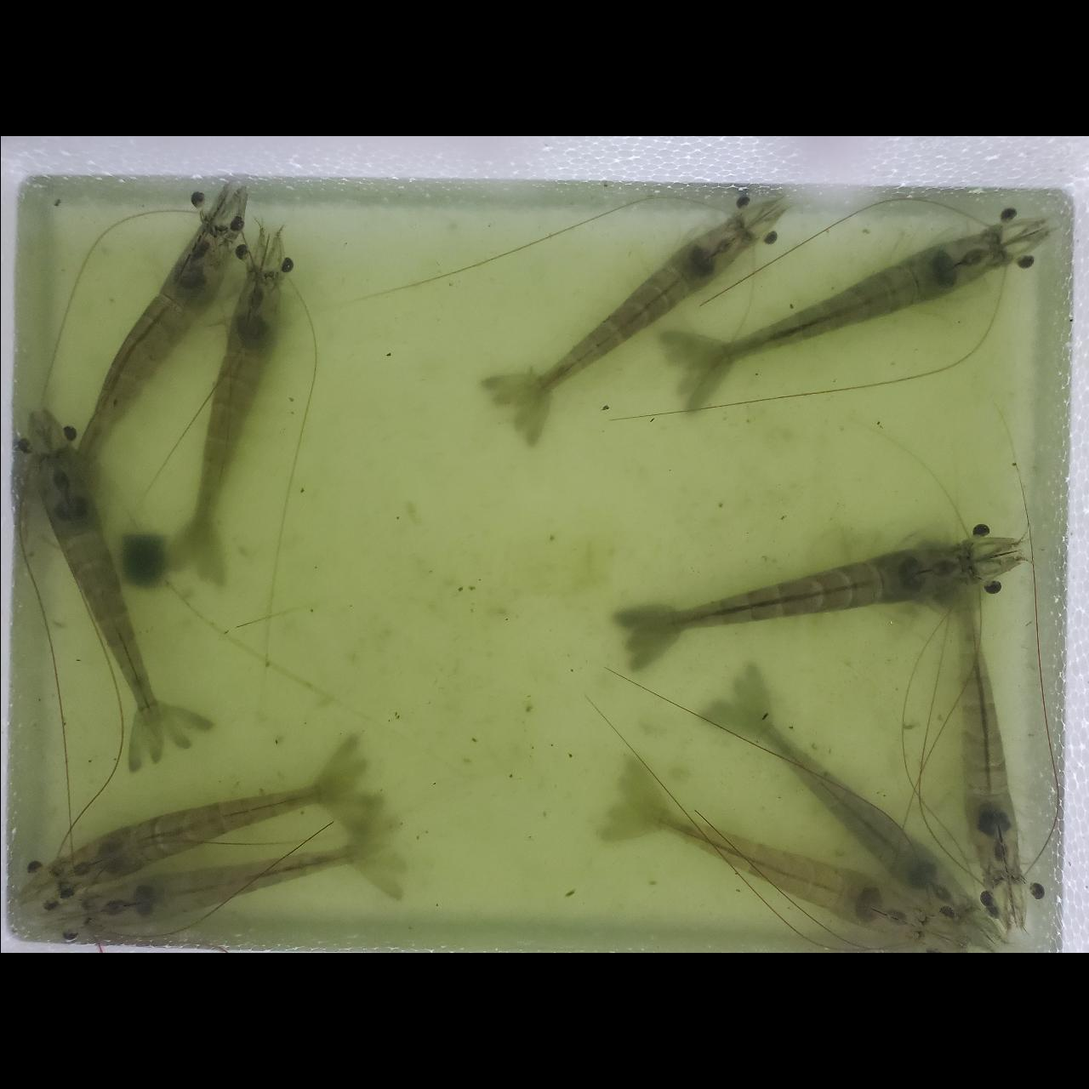box: (118, 535, 169, 585)
top_shrimp: (738, 700, 969, 929), (65, 226, 235, 492), (509, 225, 751, 408), (686, 231, 1003, 367), (626, 804, 923, 938), (33, 450, 162, 749), (59, 784, 359, 892), (619, 547, 974, 636), (191, 269, 282, 568), (85, 845, 390, 930), (956, 561, 1020, 879)
